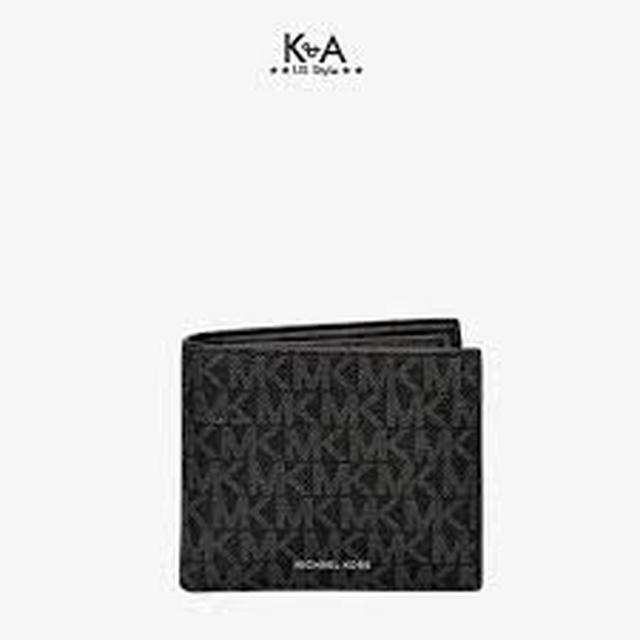wallet: (149, 310, 531, 606)
